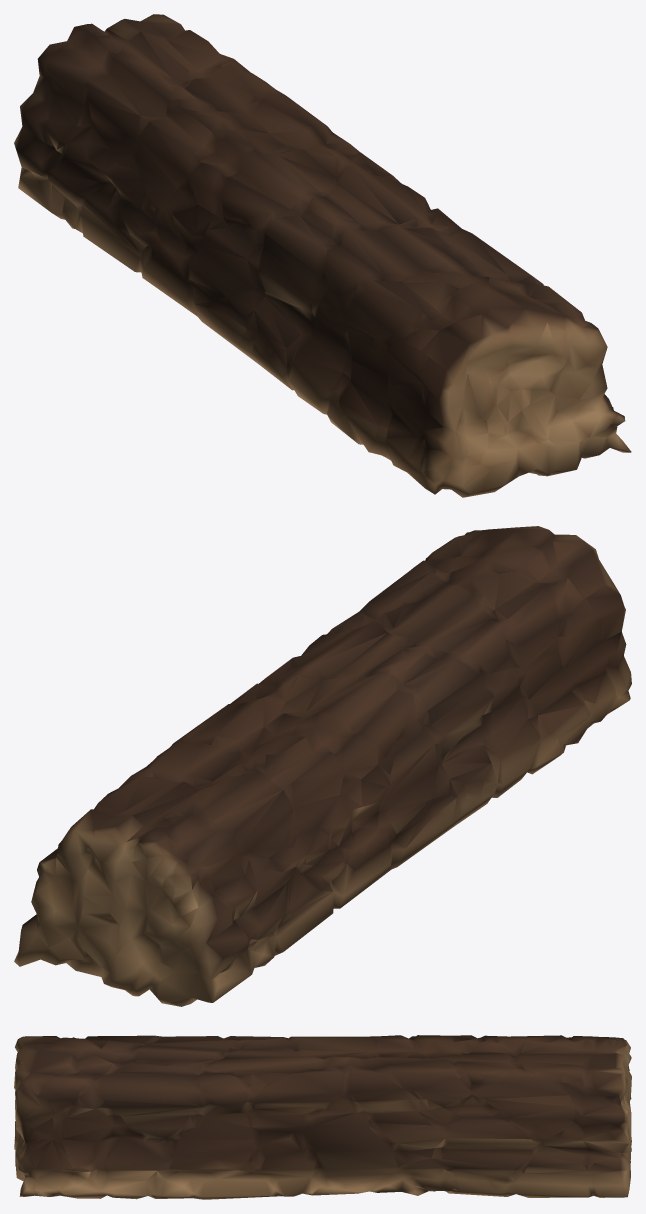
File: ember_split_log_lod1.glb
The picture shows the model from 3 angles, top to bottom: view 1: azimuth 30°, elevation 25°; view 2: azimuth 150°, elevation 25°; view 3: azimuth 270°, elevation 25°; orthographic projection. The views are drawn at different scales.
Parts seen in each view (by area): view 1: ember_split_log.001; view 2: ember_split_log.001; view 3: ember_split_log.001.
Boxes of the visible parts, box(x1,y1,x2,y2) form: ember_split_log.001: box(14, 14, 631, 497); ember_split_log.001: box(14, 526, 631, 1006); ember_split_log.001: box(14, 1035, 631, 1199).
Bounding box in the file's own units: 16.04 × 12.42 × 56.93.
